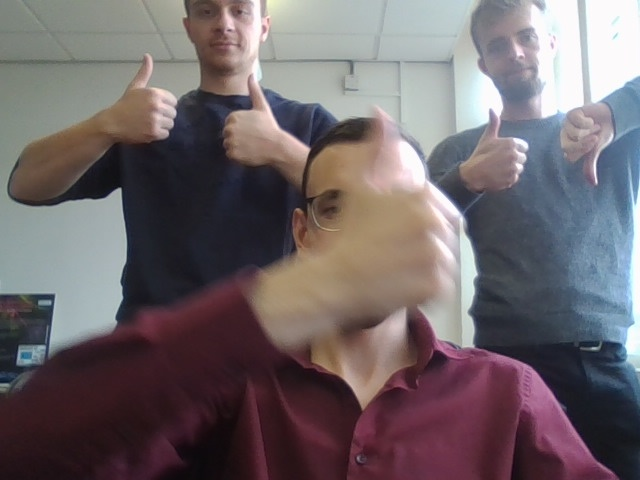thumbup: (106, 54, 179, 144), (461, 109, 527, 195), (220, 74, 279, 169)
